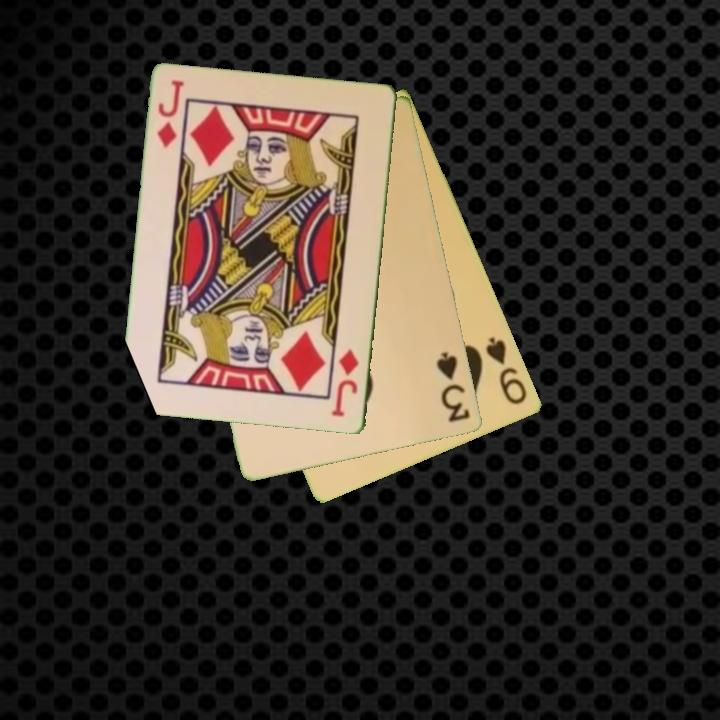3s: (433, 348, 474, 426)
9s: (482, 333, 531, 408)
Jd: (328, 346, 363, 420), (154, 77, 187, 151)
